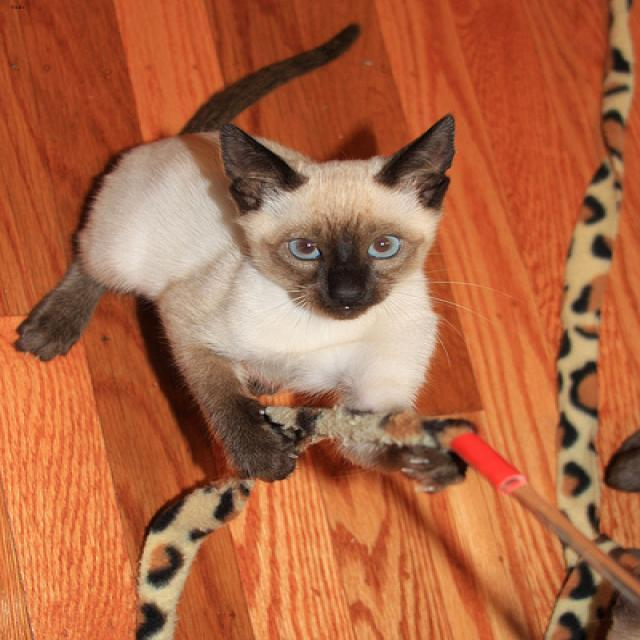Siamese: (215, 111, 464, 323)
